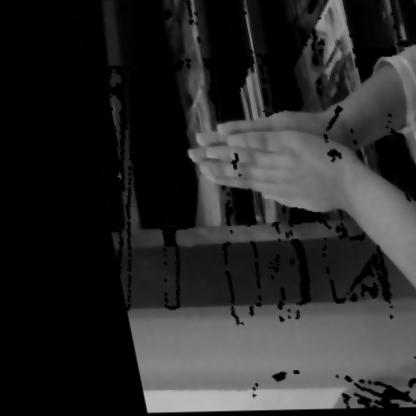namaste: (153, 66, 402, 262)
